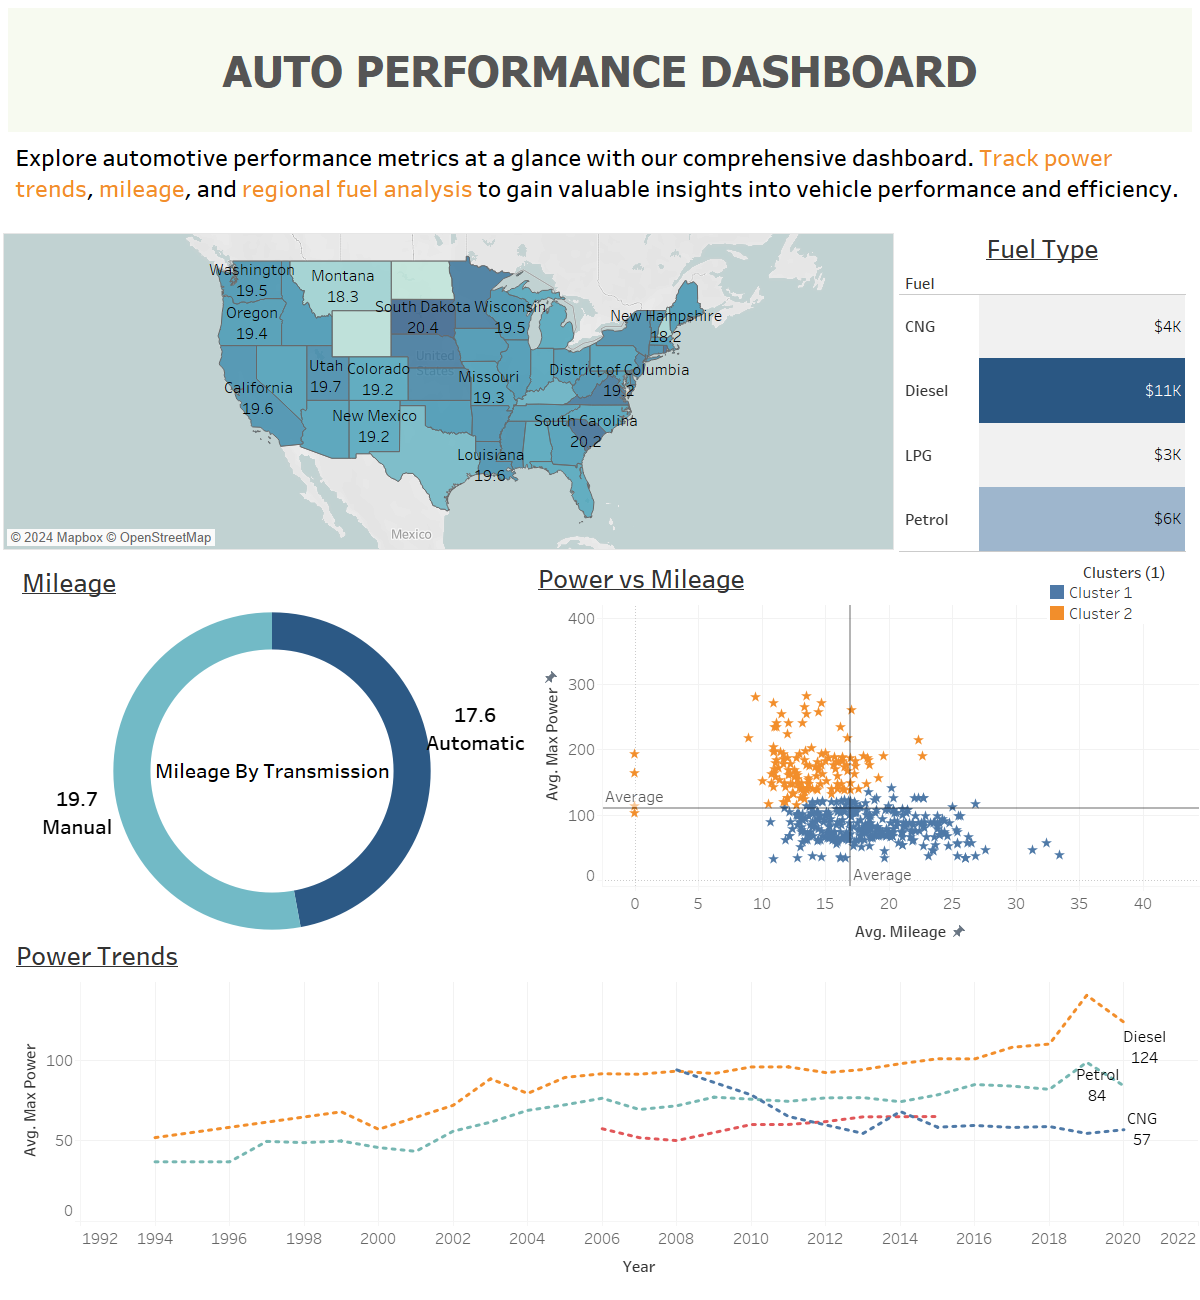

This screenshot's page, from the dashboard's own definition file:
{"tool":"tableau","page":{"name":"Dashboard 2 (2)","canvas":[1200,1300],"ordinal":2},"visuals":[{"type":"text","box":[8,8,1184,124]},{"type":"text","box":[8,132,1184,81]},{"type":"worksheet","title":"Parva 9","mark":"Automatic","box":[3,218,891,332]},{"type":"worksheet","title":"Parva 2","mark":"Square","rows":["fuel"],"box":[899,225,287,327]},{"type":"worksheet","title":"Parva 10","mark":"Pie","rows":["Calculation_164944387122737153","Calculation_164944387122737153"],"box":[18,559,508,374]},{"type":"worksheet","title":"Parva 12","mark":"Automatic","rows":["max_power"],"cols":["mileage"],"box":[529,559,664,371]},{"type":"legend","title":"Parva 12","param":"[federated.185qcu202rnwf21a253jp0cvdubs].[none:AdhocCluster:1:ok]","box":[948,619,138,59]},{"type":"worksheet","title":"Parva 14","mark":"Automatic","rows":["max_power"],"cols":["year"],"box":[12,932,1186,352]}]}

Visuals, with their boxes in screenshot pixels (x1, y1, x2, y2), scaled from the page's 1200x1300 canvas onto the 1200x1300 screenshot:
text: x1=8, y1=8, x2=1192, y2=132
text: x1=8, y1=132, x2=1192, y2=213
"Parva 9" worksheet: x1=3, y1=218, x2=894, y2=550
"Parva 2" worksheet (Square marks): x1=899, y1=225, x2=1186, y2=552
"Parva 10" worksheet (Pie marks): x1=18, y1=559, x2=526, y2=933
"Parva 12" worksheet: x1=529, y1=559, x2=1193, y2=930
"Parva 12" legend: x1=948, y1=619, x2=1086, y2=678
"Parva 14" worksheet: x1=12, y1=932, x2=1198, y2=1284
